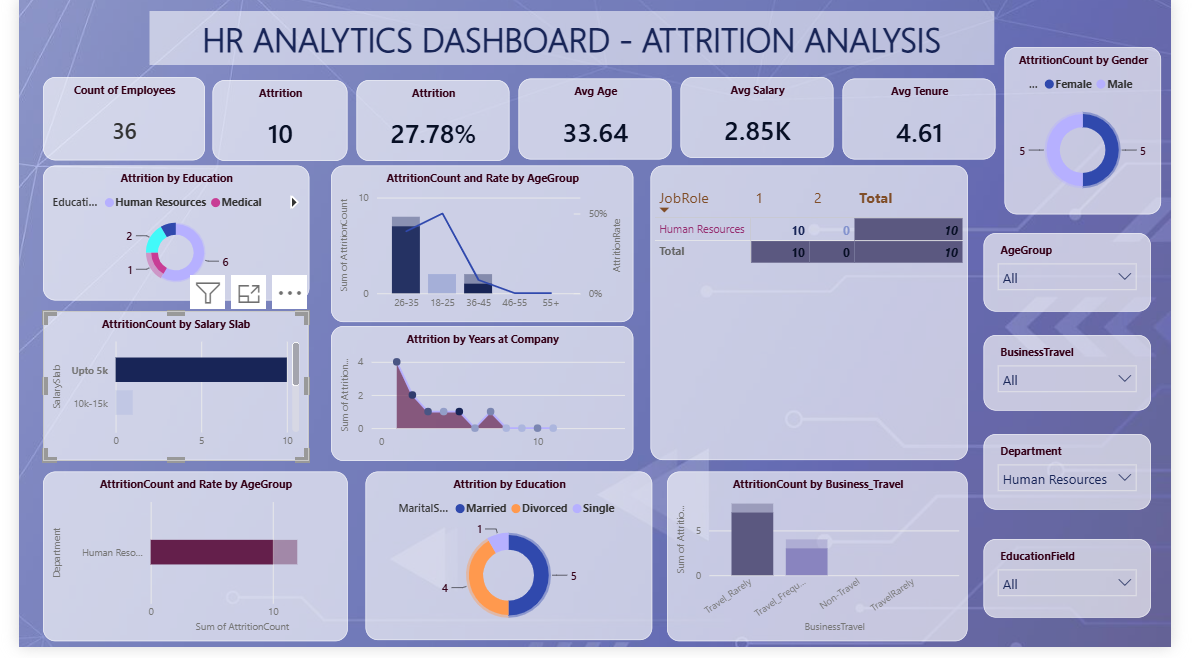

Layout of this report page (visuals, bound fields, positions):
{"tool":"powerbi","page":{"name":"Page 1","canvas":[1280,720],"ordinal":0},"visuals":[{"type":"textbox","box":[145.7,12.9,938.6,60],"z":0},{"type":"cardVisual","title":"Count of Employees","fields":{"Data":["Count(HR_Analytics.EmpID)"]},"box":[27.1,87.1,180,92.9],"z":1000},{"type":"cardVisual","title":"Attrition","fields":{"Data":["Sum(HR_Analytics.AttritionCount)"]},"box":[215.7,90,150,90],"z":2000},{"type":"cardVisual","title":"Attrition","fields":{"Data":["HR_Analytics.AttritionRate"]},"box":[375.7,90,170,90],"z":3000},{"type":"cardVisual","title":"Avg Age","fields":{"Data":["Avg(HR_Analytics.Age)"]},"box":[554.3,88.6,170,90],"z":4000},{"type":"cardVisual","title":"Avg Salary","fields":{"Data":["Avg(HR_Analytics.MonthlyIncome)"]},"box":[734.3,87.1,170,90],"z":5000},{"type":"cardVisual","title":"Avg Tenure","fields":{"Data":["Avg(HR_Analytics.YearsAtCompany)"]},"box":[914.3,88.6,170,90],"z":6000},{"type":"donutChart","title":"AttritionCount by Gender","fields":{"Category":["HR_Analytics.Gender"],"Y":["Sum(HR_Analytics.AttritionCount)"]},"box":[1094.3,52.9,174.3,185.7],"z":7000},{"type":"donutChart","title":"Attrition by Education","fields":{"Category":["HR_Analytics.EducationField","HR_Analytics.YearsAtCompany"],"Y":["Sum(HR_Analytics.AttritionCount)"]},"box":[27.1,185.7,295.7,150],"z":8000},{"type":"lineStackedColumnComboChart","title":"AttritionCount and Rate by AgeGroup","fields":{"Category":["HR_Analytics.AgeGroup"],"Y":["Sum(HR_Analytics.AttritionCount)"],"Y2":["HR_Analytics.AttritionRate"]},"box":[347.1,185.7,335.7,174.3],"z":9000},{"type":"pivotTable","fields":{"Rows":["HR_Analytics.JobRole"],"Columns":["HR_Analytics.JobLevel"],"Values":["Sum(HR_Analytics.AttritionCount)"]},"box":[701.4,185.7,352.9,327.1],"z":10000},{"type":"barChart","title":"AttritionCount by Salary Slab","fields":{"Y":["Sum(HR_Analytics.AttritionCount)"],"Category":["HR_Analytics.SalarySlab"]},"box":[27.1,347.1,294.3,165.7],"z":11000},{"type":"areaChart","title":"Attrition by Years at Company","fields":{"Y":["Sum(HR_Analytics.AttritionCount)"],"Category":["HR_Analytics.YearsAtCompany"]},"box":[347.1,362.9,335.7,150],"z":12000},{"type":"barChart","title":"AttritionCount and Rate by AgeGroup","fields":{"Y":["Sum(HR_Analytics.AttritionCount)"],"Category":["HR_Analytics.Department"]},"box":[27.1,524.3,338.6,188.6],"z":12001},{"type":"donutChart","title":"Attrition by Education","fields":{"Y":["Sum(HR_Analytics.AttritionCount)"],"Category":["HR_Analytics.MaritalStatus"]},"box":[385.7,525.7,318.6,187.1],"z":12002},{"type":"columnChart","title":"AttritionCount by Business_Travel","fields":{"Category":["HR_Analytics.BusinessTravel"],"Y":["Sum(HR_Analytics.AttritionCount)"]},"box":[720,524.3,334.3,188.6],"z":12003},{"type":"slicer","fields":{"Values":["HR_Analytics.AgeGroup"]},"box":[1071.4,260,185.7,87.1],"z":12004},{"type":"slicer","fields":{"Values":["HR_Analytics.BusinessTravel"]},"box":[1071.4,372.9,185.7,84.3],"z":12005},{"type":"slicer","fields":{"Values":["HR_Analytics.Department"]},"box":[1071.4,482.9,185.7,84.3],"z":12006},{"type":"slicer","fields":{"Values":["HR_Analytics.EducationField"]},"box":[1071.4,600,185.7,87.1],"z":12007}]}

Visuals, with their boxes in screenshot pixels (x1, y1, x2, y2), scaled from the page's 1280x720 canvas onto the 1195x658 screenshot:
textbox: Rect(136, 12, 1012, 67)
"Count of Employees" cardVisual: Rect(25, 80, 193, 164)
"Attrition" cardVisual: Rect(201, 82, 341, 164)
"Attrition" cardVisual: Rect(351, 82, 509, 164)
"Avg Age" cardVisual: Rect(517, 81, 676, 163)
"Avg Salary" cardVisual: Rect(686, 80, 844, 162)
"Avg Tenure" cardVisual: Rect(854, 81, 1012, 163)
"AttritionCount by Gender" donutChart: Rect(1022, 48, 1184, 218)
"Attrition by Education" donutChart: Rect(25, 170, 301, 307)
"AttritionCount and Rate by AgeGroup" lineStackedColumnComboChart: Rect(324, 170, 637, 329)
pivotTable - HR_Analytics.JobRole x HR_Analytics.JobLevel: Rect(655, 170, 984, 469)
"AttritionCount by Salary Slab" barChart: Rect(25, 317, 300, 469)
"Attrition by Years at Company" areaChart: Rect(324, 332, 637, 469)
"AttritionCount and Rate by AgeGroup" barChart: Rect(25, 479, 341, 652)
"Attrition by Education" donutChart: Rect(360, 480, 658, 651)
"AttritionCount by Business_Travel" columnChart: Rect(672, 479, 984, 652)
slicer - HR_Analytics.AgeGroup: Rect(1000, 238, 1174, 317)
slicer - HR_Analytics.BusinessTravel: Rect(1000, 341, 1174, 418)
slicer - HR_Analytics.Department: Rect(1000, 441, 1174, 518)
slicer - HR_Analytics.EducationField: Rect(1000, 548, 1174, 628)
